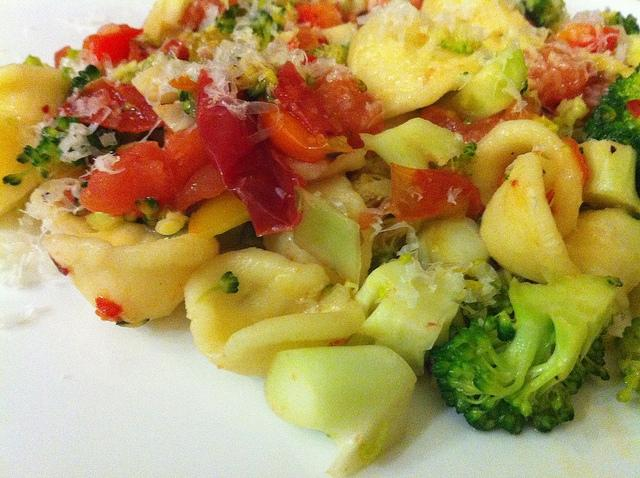bell pepper: (197, 68, 308, 238), (79, 128, 227, 214), (274, 61, 386, 150), (382, 162, 486, 223), (56, 78, 164, 132), (527, 45, 601, 116), (258, 97, 328, 164), (90, 24, 144, 68), (556, 22, 620, 52)
broccoli: (429, 258, 632, 434), (442, 40, 528, 122), (293, 186, 362, 286), (358, 117, 478, 170), (2, 117, 86, 186), (584, 65, 640, 152), (615, 318, 640, 402), (522, 0, 566, 28), (71, 64, 102, 95), (214, 3, 242, 35), (608, 12, 640, 35), (260, 10, 272, 23)
